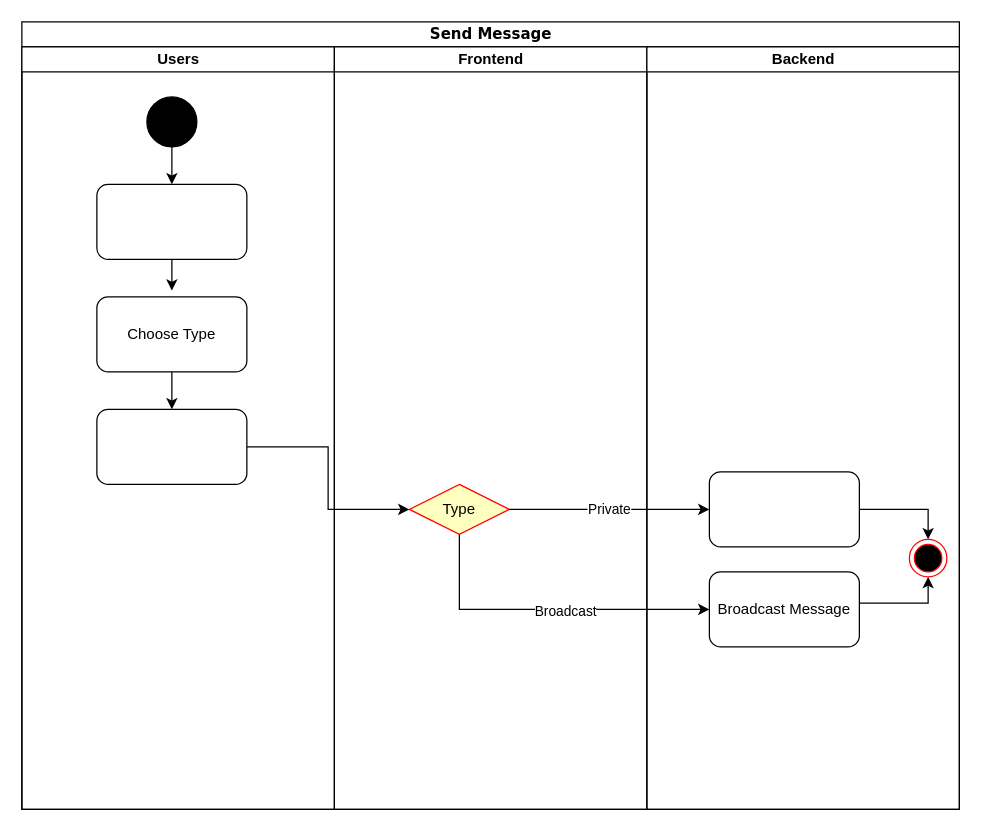
The diagram is 981 pixels wide and 831 high, and some of its shapes have lost their labels. The centre of each missing label's shape, as x and y in pixels:
Forward Message to User: (x=783, y=509)
Press Send: (x=171, y=446)
Type Mesage: (x=171, y=221)
